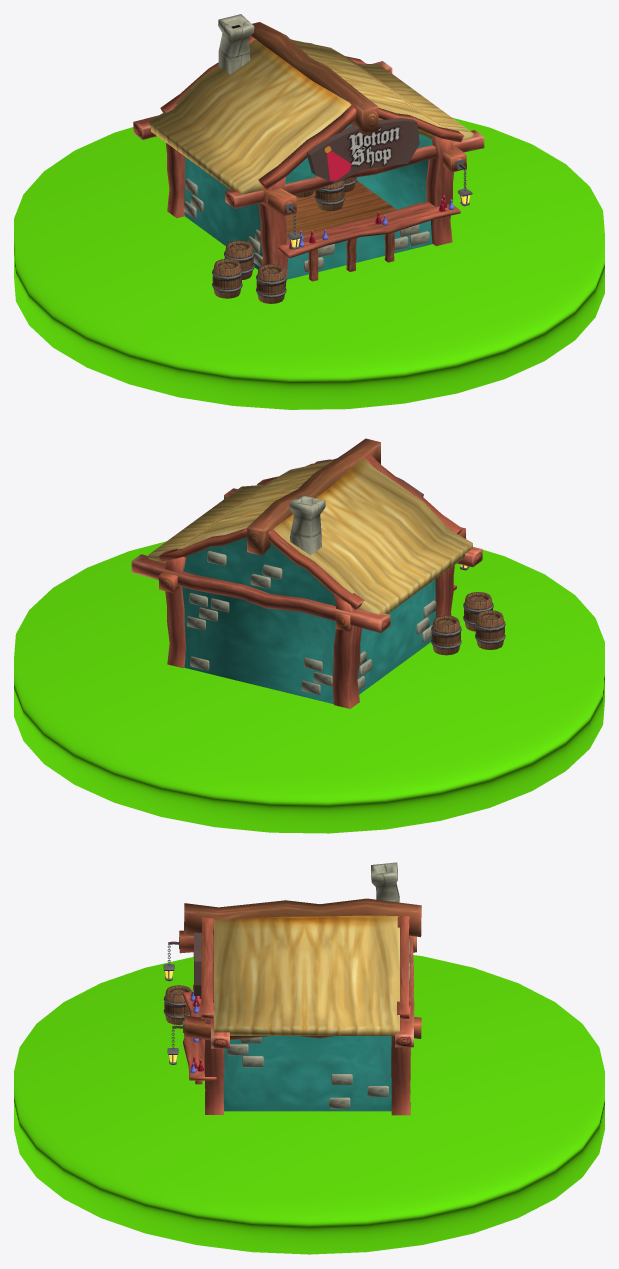
File: potion_shop.glb
The picture shows the model from 3 angles, top to bottom: view 1: azimuth 30°, elevation 25°; view 2: azimuth 150°, elevation 25°; view 3: azimuth 270°, elevation 25°; orthographic projection.
Parts seen in each view (by area): view 1: Cylinder, House, Shop Sign, Barrel, Barrel.001, Barrel.002, Barrel.005; view 2: Cylinder, House, Barrel.001, Barrel.002, Barrel; view 3: Cylinder, House, Barrel.
Part boxes in pixels (x1,y1,x2,y2): Cylinder: (14, 117, 604, 409); House: (133, 14, 484, 282); Shop Sign: (306, 118, 419, 183); Barrel: (256, 264, 286, 303); Barrel.001: (212, 258, 242, 298); Barrel.002: (224, 240, 254, 279); Barrel.005: (314, 180, 345, 211); Cylinder: (14, 541, 604, 833); House: (131, 438, 482, 708); Barrel.001: (475, 610, 505, 649); Barrel.002: (431, 615, 461, 655); Barrel: (463, 592, 493, 631); Cylinder: (14, 955, 604, 1254); House: (179, 862, 421, 1115); Barrel: (163, 985, 191, 1024).
Size of the model in its own units: 1843 by 841 by 1843.
9 materials, 8 textured.
